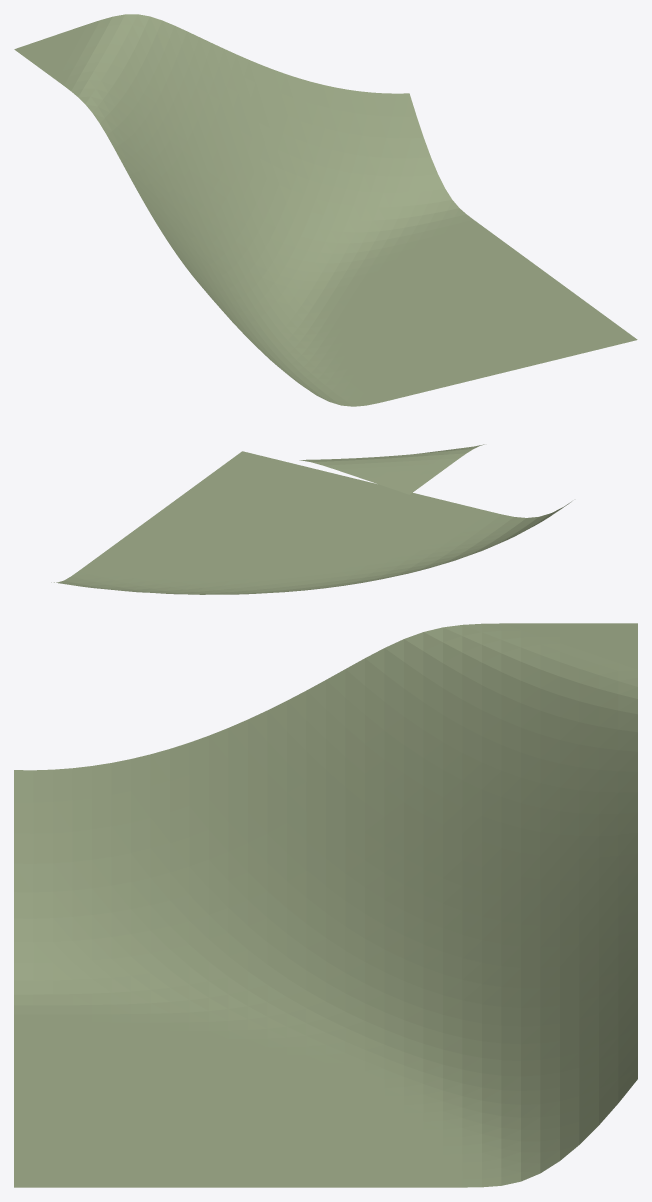
Rendered from canyon-0-0.glb.
The picture shows the model from 3 angles, top to bottom: view 1: azimuth 30°, elevation 25°; view 2: azimuth 150°, elevation 25°; view 3: azimuth 270°, elevation 25°; orthographic projection. The views are drawn at different scales.
Parts seen in each view (by area): view 1: canyon-0-0; view 2: canyon-0-0; view 3: canyon-0-0.
Boxes of the visible parts, bbox=[...] form: canyon-0-0: bbox=[14, 14, 637, 406]; canyon-0-0: bbox=[51, 444, 571, 594]; canyon-0-0: bbox=[14, 623, 637, 1187].
Bounding box in the file's own units: 128 × 70.66 × 128.
